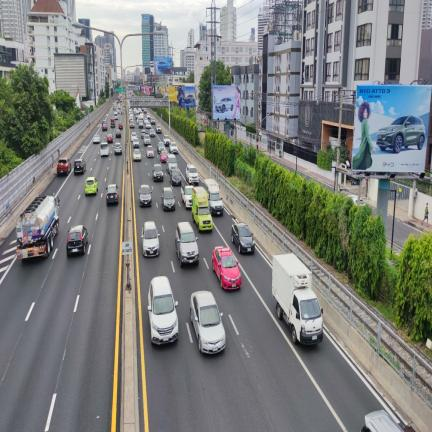car: (190, 291, 225, 353), (148, 276, 178, 344), (376, 116, 425, 153), (176, 222, 198, 267), (66, 225, 88, 256), (232, 223, 254, 253), (141, 222, 159, 256), (161, 187, 175, 209), (139, 184, 152, 206), (214, 97, 233, 112), (185, 164, 198, 184), (56, 158, 71, 175), (106, 184, 118, 205), (85, 177, 98, 195), (166, 154, 178, 173), (74, 158, 86, 174), (170, 168, 181, 185), (158, 61, 170, 73), (100, 143, 109, 156), (348, 194, 358, 205), (183, 95, 195, 104), (157, 142, 165, 153), (133, 149, 141, 160), (114, 143, 122, 154), (169, 143, 178, 152), (147, 146, 154, 157), (144, 134, 151, 145), (92, 134, 100, 143), (163, 135, 170, 145), (148, 128, 155, 137), (133, 139, 139, 148), (131, 131, 137, 140), (107, 134, 113, 143), (156, 125, 161, 133), (110, 119, 115, 127), (141, 130, 146, 138), (116, 129, 121, 137), (138, 121, 143, 128), (102, 123, 107, 130), (146, 122, 151, 128), (142, 109, 147, 115), (144, 118, 149, 124), (129, 115, 133, 122), (360, 198, 364, 205), (130, 121, 134, 128), (147, 114, 151, 120), (151, 118, 155, 124), (119, 123, 123, 128)
human: (352, 101, 375, 169), (232, 86, 240, 119), (422, 203, 428, 226)
pickup: (181, 185, 193, 207)
taxi: (212, 247, 241, 289), (160, 149, 167, 162)
truck: (272, 253, 322, 344), (16, 196, 59, 259), (191, 187, 213, 230), (204, 179, 223, 214), (138, 113, 143, 122), (111, 119, 115, 127)
van: (360, 410, 402, 431), (139, 120, 143, 128), (114, 113, 117, 119)
